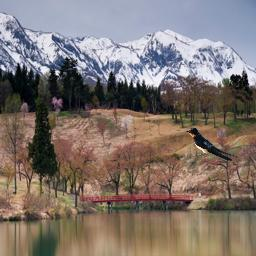Swallow: (184, 126, 240, 161)
